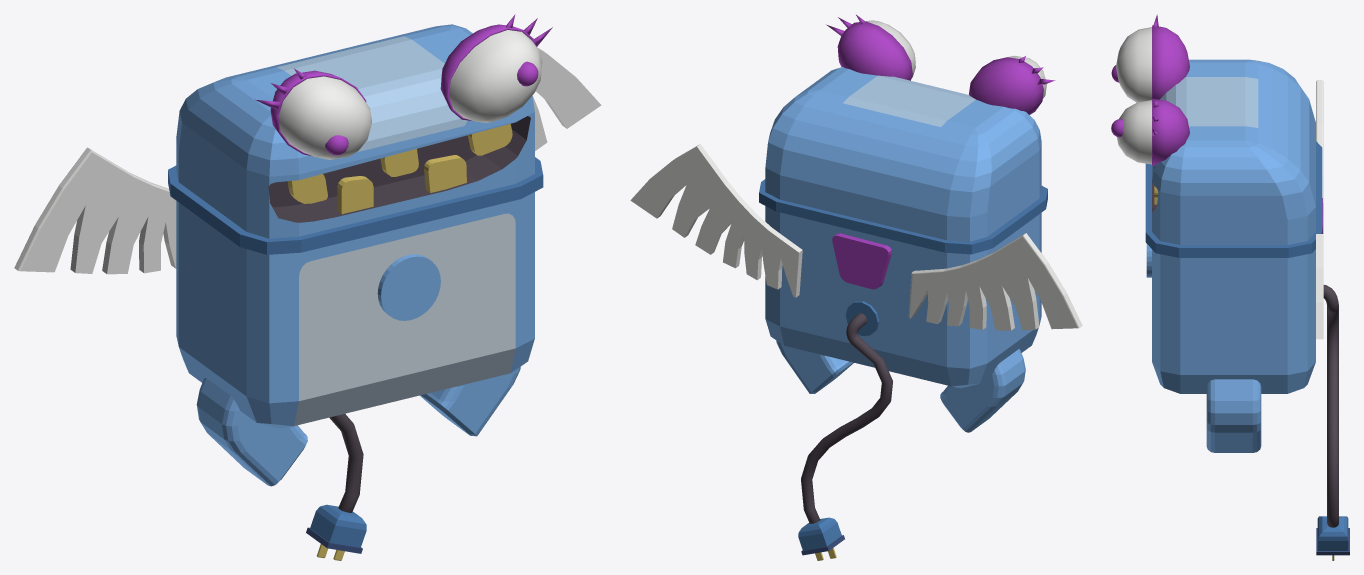
File: boss airpods.fbx
The picture shows the model from 3 angles, left to right: view 1: azimuth 30°, elevation 25°; view 2: azimuth 150°, elevation 25°; view 3: azimuth 270°, elevation 25°; orthographic projection. The views are drawn at different scales.
Visible parts, largest first — view 1: BOSS; view 2: BOSS; view 3: BOSS.
Part boxes in pixels (bbox=[...]): BOSS: bbox=[14, 14, 601, 560]; BOSS: bbox=[630, 14, 1082, 560]; BOSS: bbox=[1111, 14, 1349, 560].
Size of the model in its own units: 180 by 181 by 80.87.
